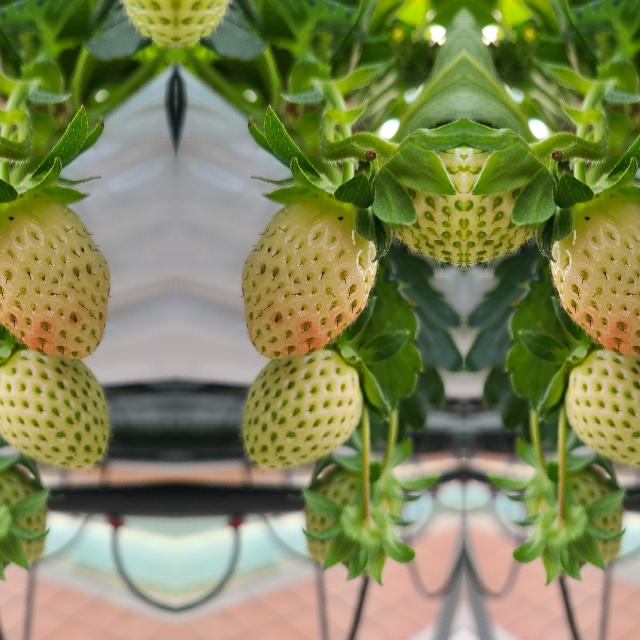Health_25: (235, 352, 357, 471), (0, 351, 115, 470), (569, 351, 640, 470)
Health_50: (240, 198, 376, 358), (0, 197, 110, 358), (550, 197, 640, 358)
